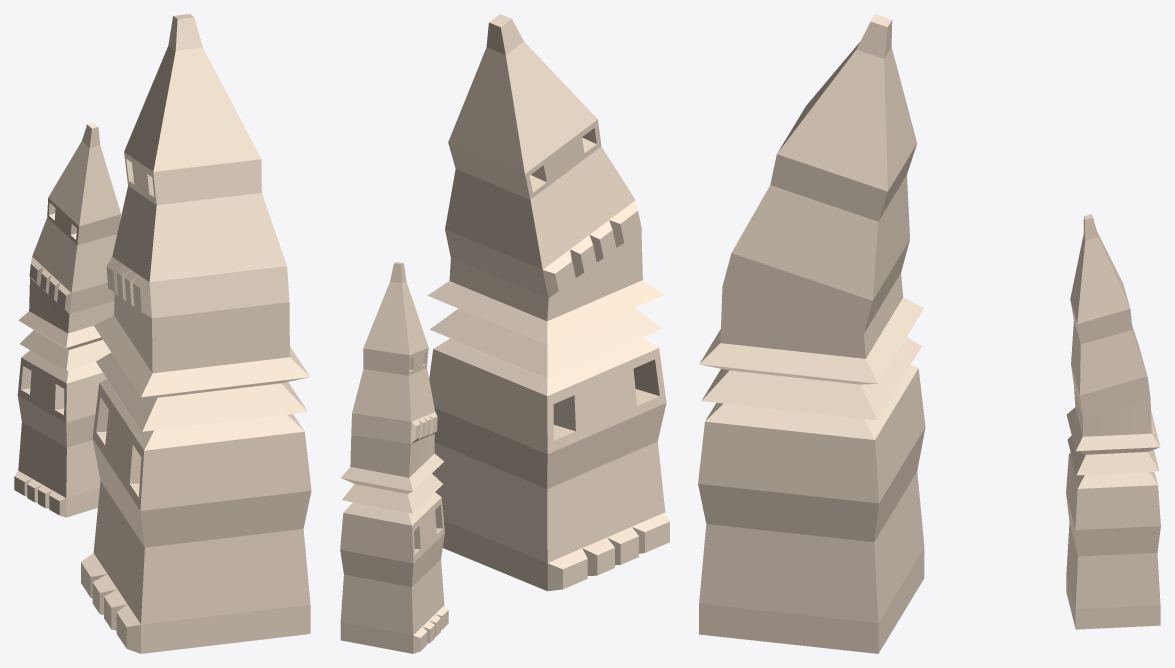
Rendered from Tupilakker.glb.
3 renders of one model, left to right at view 1: azimuth 30°, elevation 25°; view 2: azimuth 150°, elevation 25°; view 3: azimuth 270°, elevation 25°, orthographic. The views are drawn at different scales.
Visible parts, largest first — view 1: Tupilakker; view 2: Tupilakker; view 3: Tupilakker.
Boxes of the visible parts, bbox=[...] form: Tupilakker: bbox=[14, 14, 311, 653]; Tupilakker: bbox=[340, 14, 669, 653]; Tupilakker: bbox=[698, 14, 1160, 653].
Size of the model in its own units: 0.4384 by 1.21 by 0.8528.
